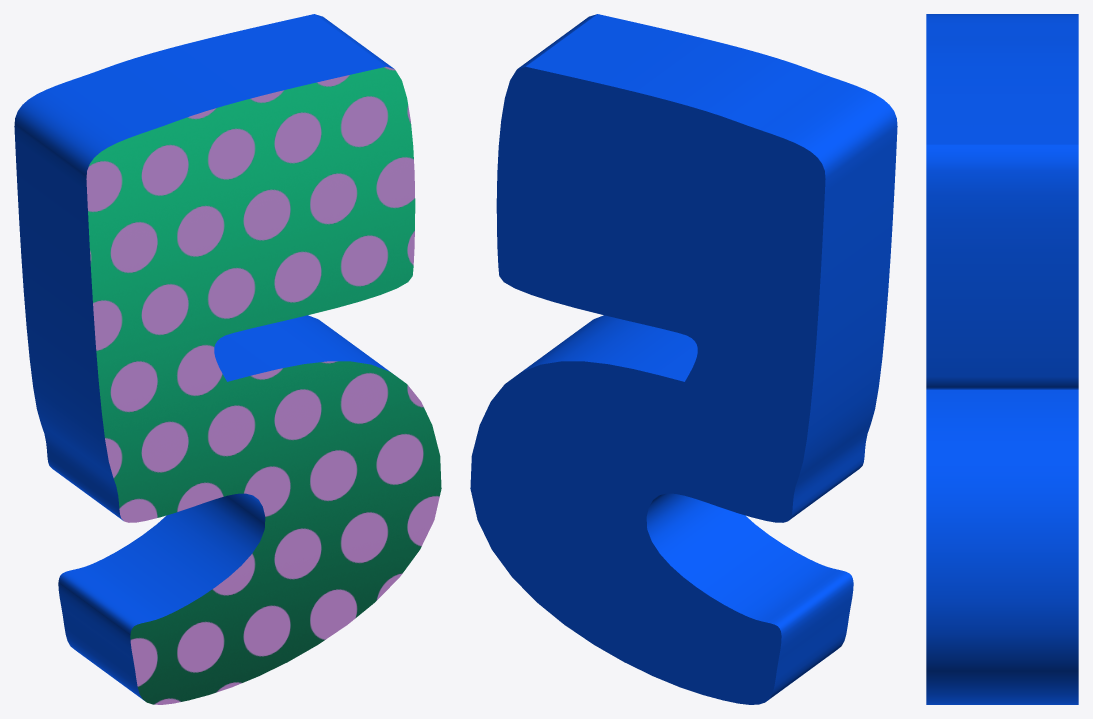
3 renders of one model, left to right at view 1: azimuth 30°, elevation 25°; view 2: azimuth 150°, elevation 25°; view 3: azimuth 270°, elevation 25°, orthographic. The views are drawn at different scales.
Parts seen in each view (by area): view 1: 5; view 2: 5; view 3: 5.
Part boxes in pixels (left/top/right/bottom): 5: left=14, top=14, right=441, bottom=704; 5: left=470, top=14, right=897, bottom=704; 5: left=926, top=14, right=1078, bottom=704.
Bounding box in the file's own units: 56.93 × 89.93 × 20.
2 materials, 1 textured.
